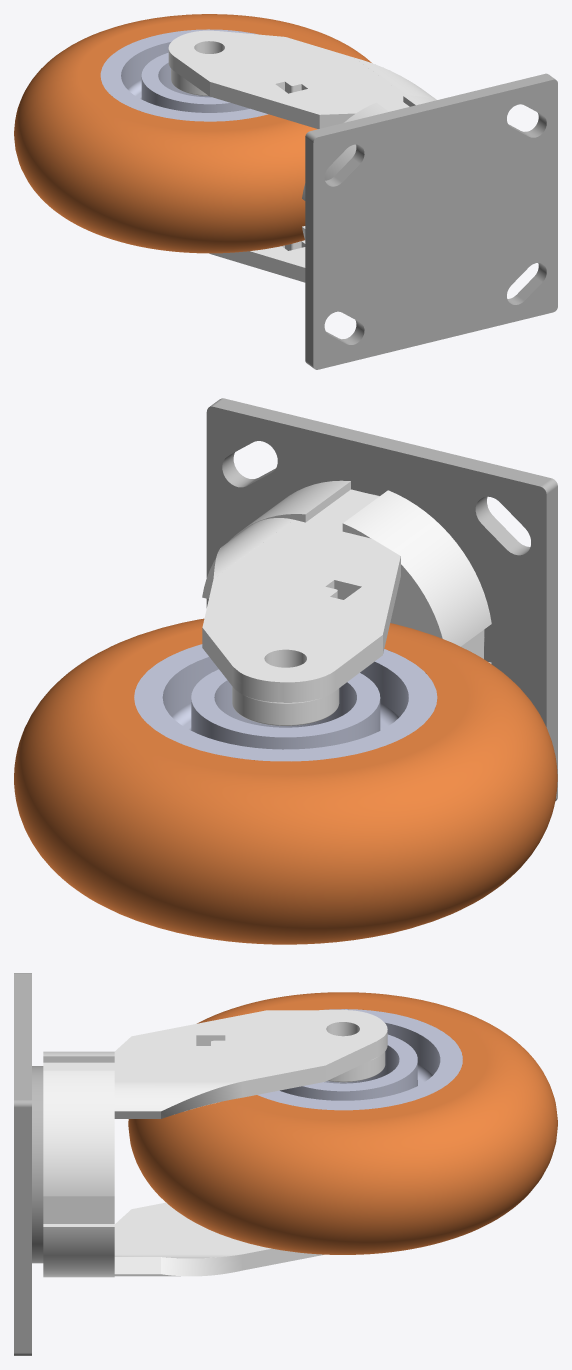
Rendered from wheel_caster_group_rn.dae.
3 renders of one model, top to bottom at view 1: azimuth 30°, elevation 25°; view 2: azimuth 150°, elevation 25°; view 3: azimuth 270°, elevation 25°, orthographic. The views are drawn at different scales.
Parts seen in each view (by area): view 1: Brep (×6); view 2: Brep (×6); view 3: Brep (×7).
Part boxes in pixels (x1,y1,x2,y2): Brep (×6): (14, 14, 557, 369); Brep (×6): (14, 398, 557, 944); Brep (×7): (14, 973, 557, 1355).
Size of the model in its own units: 0.1655 by 0.1929 by 0.1.
